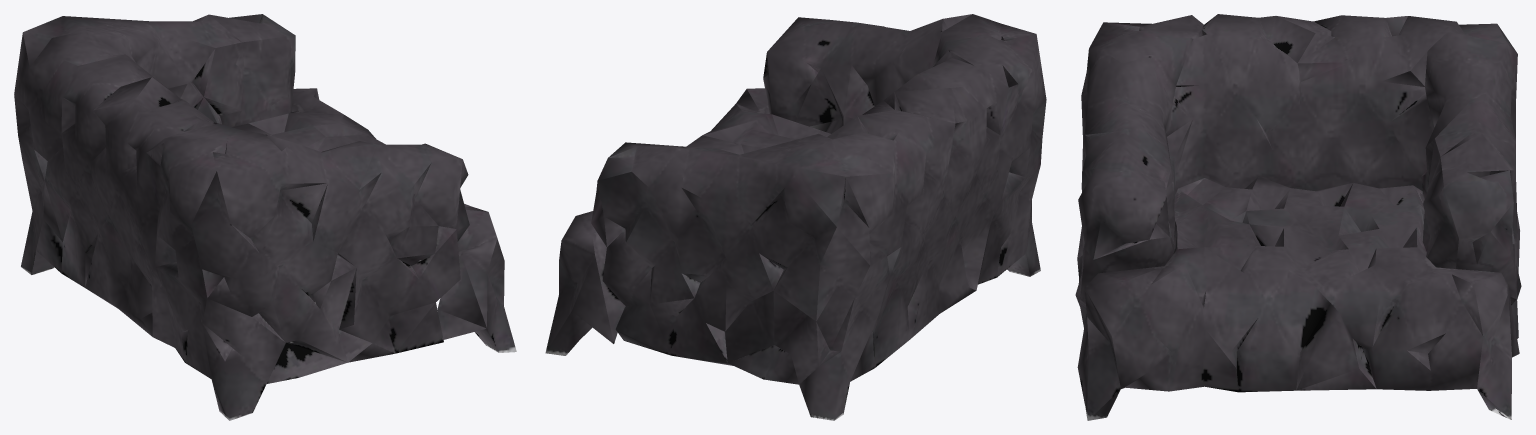
The model's file is S_Sofa0008.obj.
3 renders of one model, left to right at view 1: azimuth 30°, elevation 25°; view 2: azimuth 150°, elevation 25°; view 3: azimuth 270°, elevation 25°, orthographic. The views are drawn at different scales.
Bounding box in the file's own units: 0.852 × 0.641 × 0.992.
Materials: 1 (1 with a texture image).
